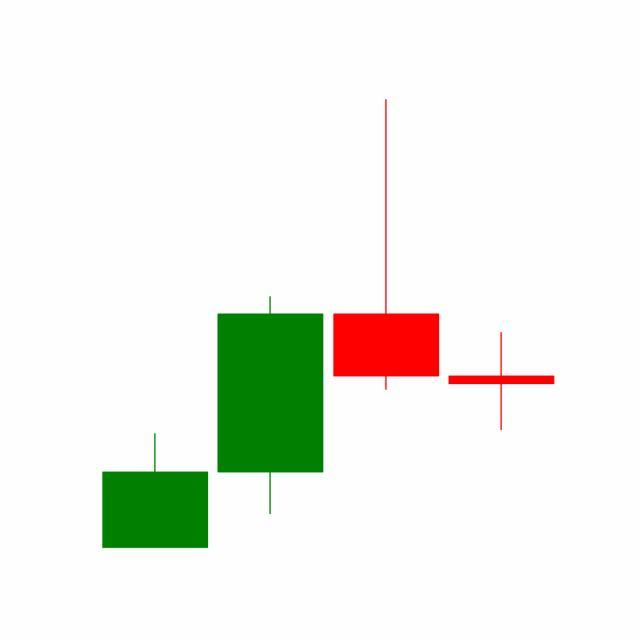Spinning Top: (444, 332, 560, 433)
